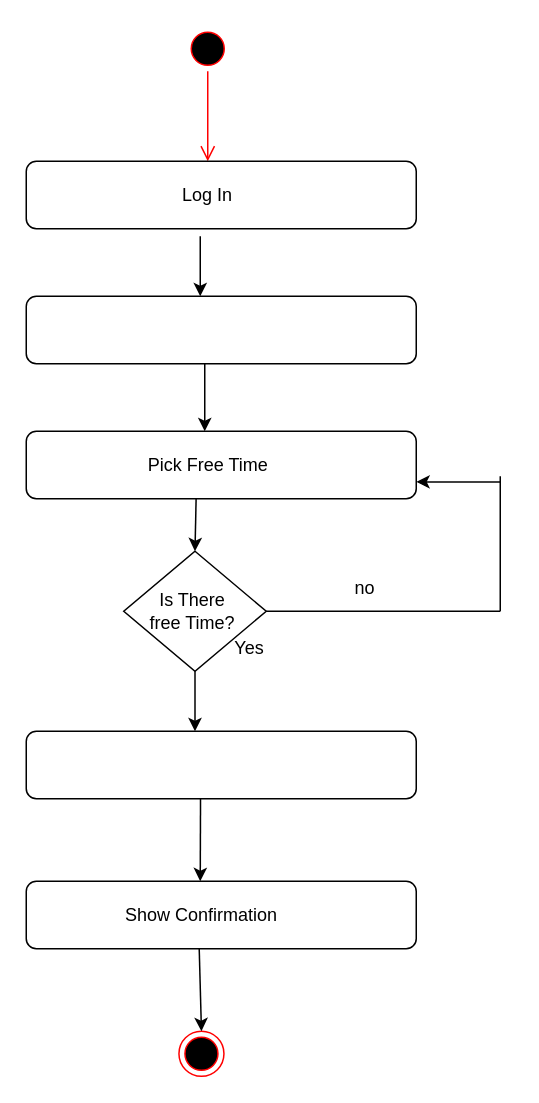
Image size: 539x1103. Some labels were removed from this diagram. Here are the shapes that lost their labels. From the top down, the centre of each, then its label:
At point (220, 329): "Choose Service".
At point (220, 764): "Save Booking".
